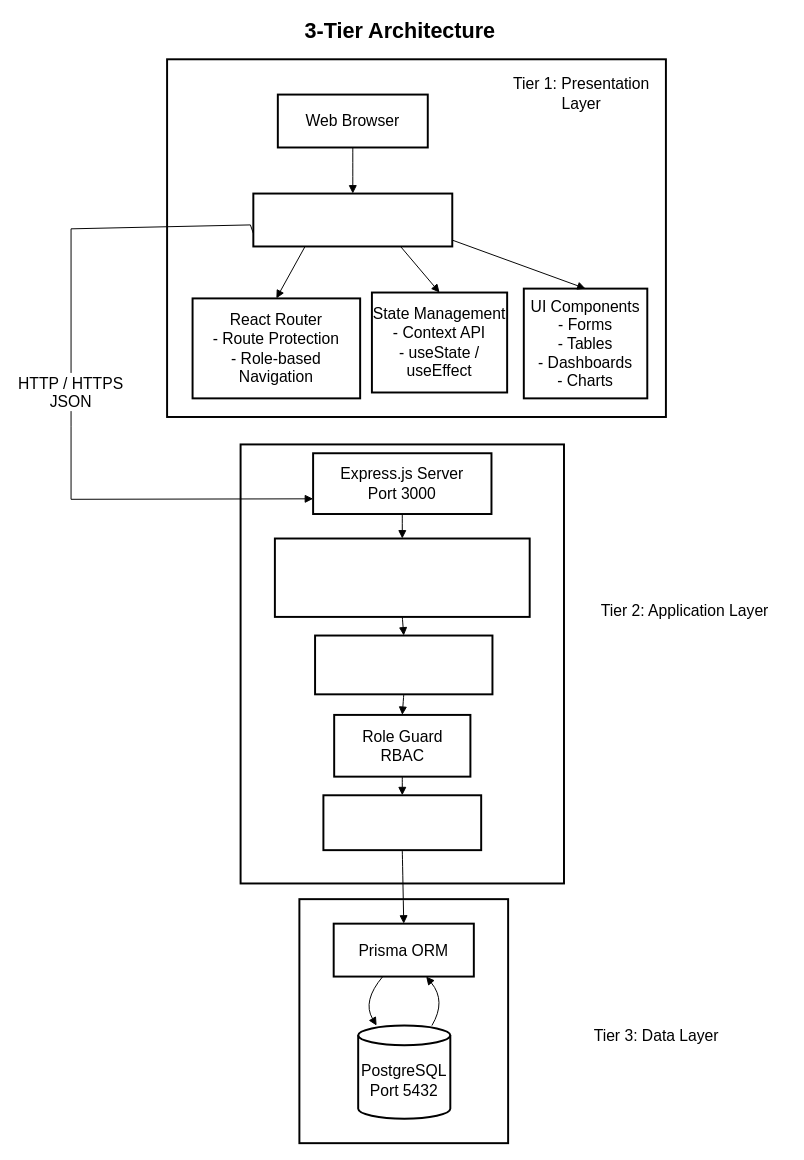
Image size: 804x1160. Some labels were removed from this diagram. Here are the shapes that lost their labels. From the top down, the centre of each, then its label:
At pixel 352 219: "React.js Application".
At pixel 401 577: "API Routes /auth · /admin · /teacher · /student".
At pixel 403 664: "Auth Middleware JWT Validation".
At pixel 402 822: "Controllers Business Logic".
